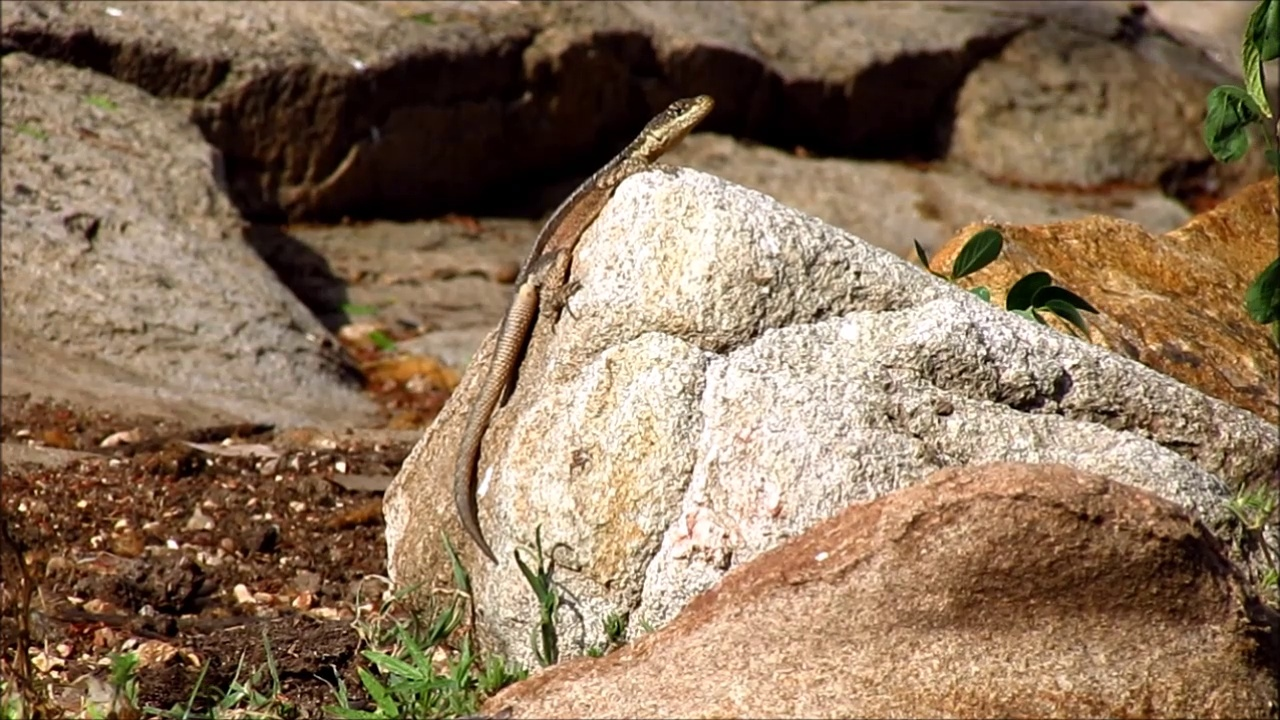body: (452, 131, 640, 566)
head: (641, 95, 714, 151)
